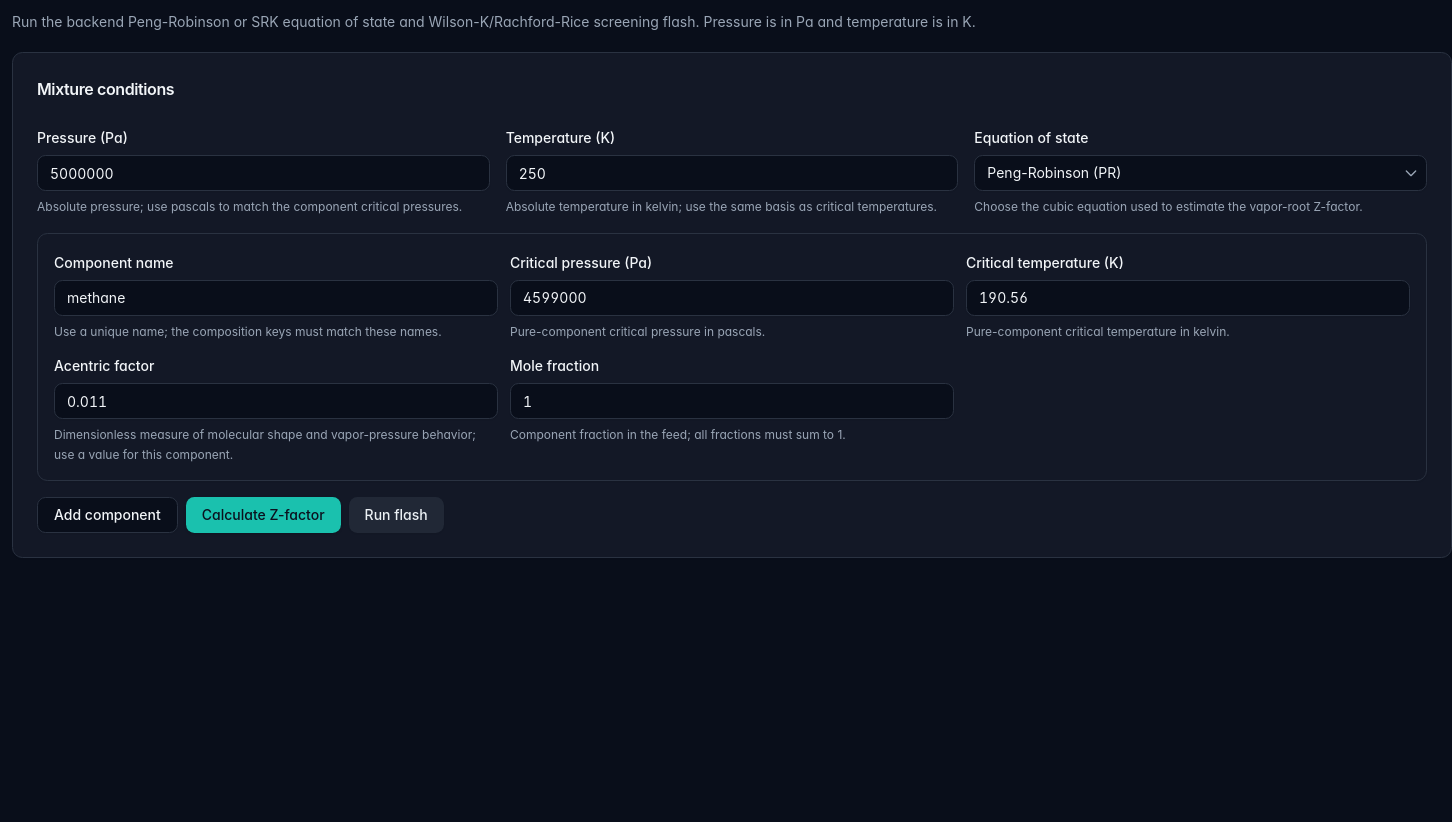
it: PvtEosFlashView › runs the flash endpoint and displays the phase result
Click the button "Run flash": x=396, y=515 [349,497,444,533]
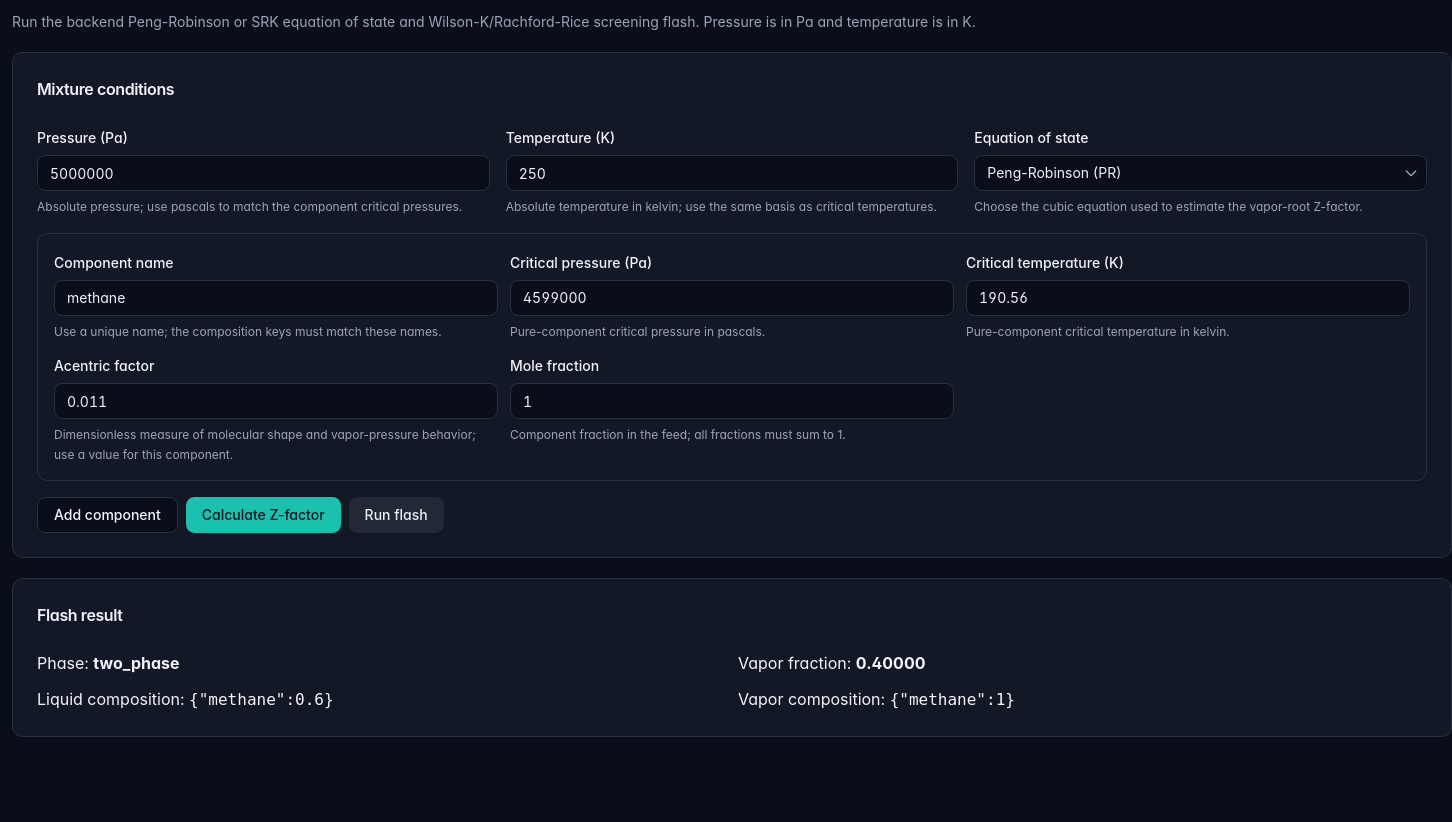
Expected: the text "two_phase" is shown, [93,653,180,673]
Expected: the text "0.40000" is shown, [856,653,925,673]
